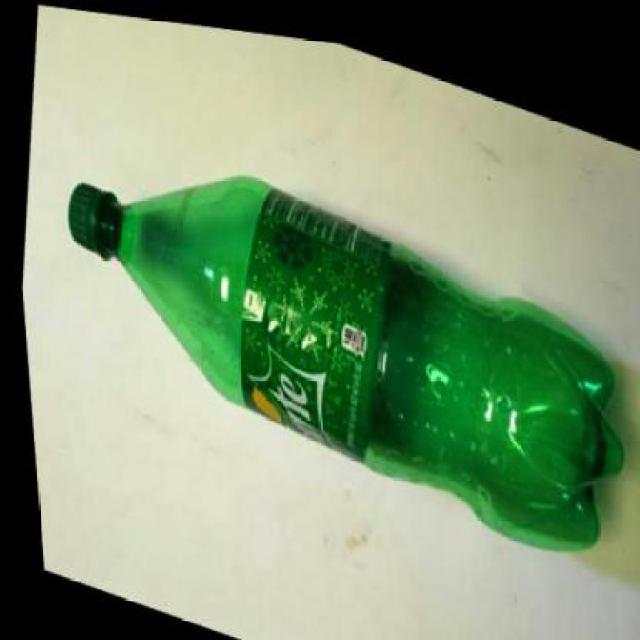Plastic: (66, 167, 629, 560)
